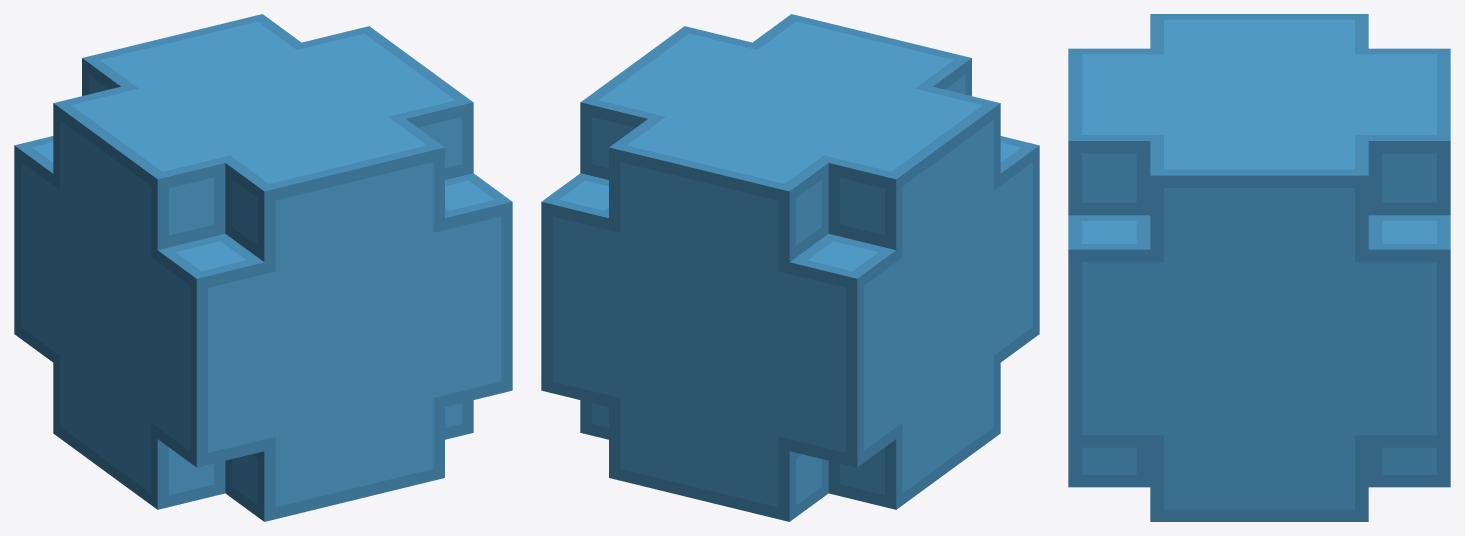
Rendered from sample.obj.
3 views of the same model, side by side, from view 1: azimuth 30°, elevation 25°; view 2: azimuth 150°, elevation 25°; view 3: azimuth 270°, elevation 25° (orthographic). The views are drawn at different scales.
Visible parts, largest first — view 1: sample; view 2: sample; view 3: sample.
Part boxes in pixels (box(x1,y1,x2,y2)): sample: box(14, 14, 512, 521); sample: box(541, 14, 1039, 521); sample: box(1068, 14, 1450, 521).
Size of the model in its own units: 28 by 28 by 28.
Materials: 1 (1 with a texture image).
